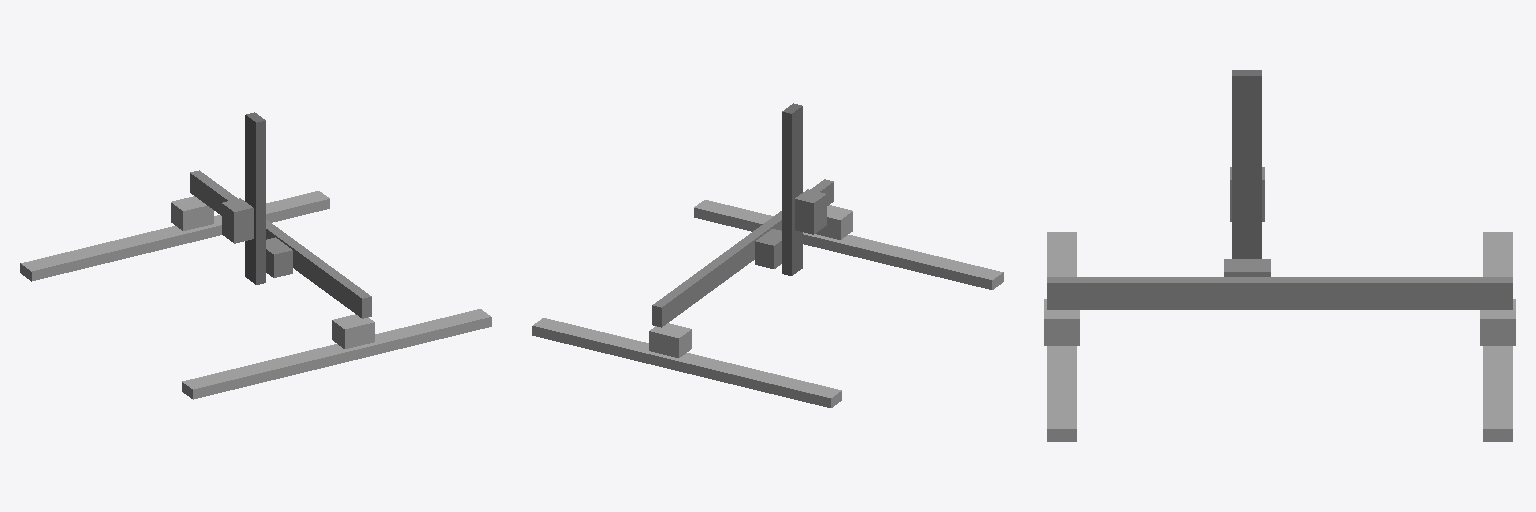
robot.urdf — cartesian_robot:
<?xml version="1.0"?>
<robot name="cartesian_robot">

    <link name="base_link">
    </link>

<!-- X-Axis Track 1 Link -->
    <link name="x_track_1">
        <visual>
            <geometry>
                <box size="0.625 0.04 0.02"/>
            </geometry>
            <origin rpy="0 0 0" xyz="0 0 0"/>
            <material name="gray">
                <color rgba="0.7 0.7 0.7 1.0"/>
            </material>
        </visual>
        <inertial>
                <mass value="0.1"/>
                <inertia ixx="0.00083" iyy="0.00083" izz="0.000167" ixy="0" ixz="0" iyz="0"/>
        </inertial>
        <collision>
            <origin rpy="0 0 0" xyz="0 0 0"/>
            <geometry>
                <box size="0.625 0.04 0.02"/>
            </geometry>
        </collision>
    </link>

<!-- X-Axis Support 1 Link -->
    <link name="x_support_1">
        <visual>
            <geometry>
                <box size="0.063 0.047 0.04"/>
            </geometry>
            <origin rpy="0 0 0" xyz="0 0 0"/>
            <material name="gray">
                <color rgba="0.7 0.7 0.7 1.0"/>
            </material>
        </visual>
        <inertial>
                <mass value="0.1"/>
                <inertia ixx="0.00083" iyy="0.00083" izz="0.000167" ixy="0" ixz="0" iyz="0"/>
        </inertial>
        <collision>
            <origin rpy="0 0 0" xyz="0 0 0"/>
            <geometry>
                <box size="0.063 0.047 0.04"/>
            </geometry>
        </collision>
    </link>

<!-- X-Axis Track 2 Link -->
    <link name="x_track_2">
        <visual>
            <geometry>
                <box size="0.625 0.04 0.02"/>
            </geometry>
            <origin rpy="0 0 0" xyz="0 0 0"/>
            <material name="gray">
                <color rgba="0.7 0.7 0.7 1.0"/>
            </material>
        </visual>
        <inertial>
                <mass value="0.1"/>
                <inertia ixx="0.00083" iyy="0.00083" izz="0.000167" ixy="0" ixz="0" iyz="0"/>
        </inertial>
        <collision>
            <origin rpy="0 0 0" xyz="0 0 0"/>
            <geometry>
                <box size="0.625 0.04 0.02"/>
            </geometry>
        </collision>
    </link>

<!-- X-Axis Support 2 Link -->
    <link name="x_support_2">
        <visual>
            <geometry>
                <box size="0.063 0.047 0.04"/>
            </geometry>
            <origin rpy="0 0 0" xyz="0 0 0"/>
            <material name="gray">
                <color rgba="0.7 0.7 0.7 1.0"/>
            </material>
        </visual>
        <inertial>
                <mass value="0.1"/>
                <inertia ixx="0.00083" iyy="0.00083" izz="0.000167" ixy="0" ixz="0" iyz="0"/>
        </inertial>
        <collision>
            <origin rpy="0 0 0" xyz="0 0 0"/>
            <geometry>
                <box size="0.063 0.047 0.04"/>
            </geometry>
        </collision>
    </link>

<!-- Y-Axis Link -->
    <link name="y_track">
        <visual>
            <geometry>
                <box size="0.02 0.625 0.04"/>
            </geometry>
            <origin rpy="0 0 0" xyz="0 0 0"/>
            <material name="gray">
                <color rgba="0.6 0.6 0.6 1.0"/>
            </material>
        </visual>
        <inertial>
                <mass value="0.1"/>
                <inertia ixx="0.00083" iyy="0.00083" izz="0.000167" ixy="0" ixz="0" iyz="0"/>
        </inertial>
        <collision>
            <origin rpy="0 0 0" xyz="0 0 0"/>
            <geometry>
                <box size="0.02 0.625 0.04"/>
            </geometry>
        </collision>
    </link>

<!-- Y-Axis Support Link -->
    <link name="y_support">
        <visual>
            <geometry>
                <box size="0.04 0.063 0.047"/>
            </geometry>
            <origin rpy="0 0 0" xyz="0 0 0"/>
            <material name="gray">
                <color rgba="0.6 0.6 0.6 1.0"/>
            </material>
        </visual>
        <inertial>
                <mass value="0.1"/>
                <inertia ixx="0.00083" iyy="0.00083" izz="0.000167" ixy="0" ixz="0" iyz="0"/>
        </inertial>
        <collision>
            <origin rpy="0 0 0" xyz="0 0 0"/>
            <geometry>
                <box size="0.04 0.063 0.047"/>
            </geometry>
        </collision>
    </link>

<!-- Z-Axis Link -->
    <link name="z_track">
        <visual>
            <geometry>
                <box size="0.02 0.04 0.325"/>
            </geometry>
            <origin rpy="0 0 0" xyz="0 0 0"/>
            <material name="gray">
                <color rgba="0.5 0.5 0.5 1.0"/>
            </material>
        </visual>
        <inertial>
                <mass value="0.1"/>
                <inertia ixx="0.00083" iyy="0.00083" izz="0.000167" ixy="0" ixz="0" iyz="0"/>
        </inertial>
        <collision>
            <origin rpy="0 0 0" xyz="0 0 0"/>
            <geometry>
                <box size="0.02 0.04 0.325"/>
            </geometry>
        </collision>
    </link>

<!-- Z-Axis Support Link -->
    <link name="z_support">
        <visual>
            <geometry>
                <box size="0.04 0.047 0.063"/>
            </geometry>
            <origin rpy="0 0 0" xyz="0 0 0"/>
            <material name="gray">
                <color rgba="0.6 0.6 0.6 1.0"/>
            </material>
        </visual>
        <inertial>
                <mass value="0.1"/>
                <inertia ixx="0.00083" iyy="0.00083" izz="0.000167" ixy="0" ixz="0" iyz="0"/>
        </inertial>
        <collision>
            <origin rpy="0 0 0" xyz="0 0 0"/>
            <geometry>
                <box size="0.04 0.047 0.063"/>
            </geometry>
        </collision>
    </link>

<!-- Fixed Joint between X-Axis Track 1 and Base Link -->
    <joint name="x1Base" type="fixed">
        <parent link="base_link"/>
        <child link="x_track_1"/>
        <origin xyz="-0.3125 0 0.01" rpy="0 0 0"/>
    </joint>

<!-- Fixed Joint between X-Axis Track 2 and Base Link -->
    <joint name="x2Base" type="fixed">
        <parent link="base_link"/>
        <child link="x_track_2"/>
        <origin xyz="-0.3125 0.585 0.01" rpy="0 0 0"/>
    </joint>

<!-- Fixed Joint between X-Axis Support 1 and X-Axis Support 2 -->
    <joint name="xSupportFixed" type="fixed">
        <parent link="x_support_1"/>
        <child link="x_support_2"/>
        <origin xyz="0 0.585 0" rpy="0 0 0"/>
    </joint>

<!-- Prismatic Joint between X-Axis Track 1 and X-Axis Support 1 -->
    <joint name="xPrismatic1" type="prismatic">
        <parent link="x_track_1"/>
        <child link="x_support_1"/>
        <origin xyz="0.2815 0 0.038" rpy="0 0 0"/>
        <axis xyz="1 0 0"/>
        <limit lower="-0.478" upper="-0.015" effort="100" velocity="1"/>
    </joint>

<!-- Fixed Joint between Y-axis and X-axis Support 1 -->
    <joint name="x1yFixed" type="fixed">
        <parent link="x_support_1"/>
        <child link="y_track"/>
        <origin xyz="0.017 0.2925 0.051" rpy="0 0 0"/>
    </joint>

<!-- Fixed Joint between Y-axis and X-axis Support 2
    <joint name="x2yFixed" type="fixed">
        <parent link="x_support_2"/>
        <child link="y_track"/>
        <origin xyz="0.017 -0.2925 0.051" rpy="0 0 0"/>
    </joint> -->

<!-- Prismatic Joint between Y-Axis and Y-Axis Support -->
    <joint name="yPrismatic" type="prismatic">
        <parent link="y_track"/>
        <child link="y_support"/>
        <origin xyz="-0.038 -0.2425 0" rpy="0 0 0"/>
        <axis xyz="0 1 0"/>
        <limit lower="0.01" upper="0.387" effort="100" velocity="1"/>
    </joint>

<!-- Fixed Joint between Z-axis and Y-axis Support -->
    <joint name="yzFixed" type="fixed">
        <parent link="y_support"/>
        <child link="z_track"/>
        <origin xyz="-0.04 0.000 0.1275" rpy="0 0 0"/>
    </joint>

<!-- Prismatic Joint between Z-Axis and Z-Axis Support -->
    <joint name="zPrismatic" type="prismatic">
        <parent link="z_track"/>
        <child link="z_support"/>
        <origin xyz="-0.038 0 -0.1310" rpy="0 0 0"/>
        <axis xyz="0 0 1"/>
        <limit lower="0.003" upper="0.188" effort="100" velocity="1"/>
    </joint>

</robot>

--- What the picture shows (computed from the rendered views, not written in the file) ---
Views: 3 orthographic renders of the robot side by side, from view 1: azimuth 30°, elevation 25°; view 2: azimuth 150°, elevation 25°; view 3: azimuth 270°, elevation 25°.
Robot: cartesian_robot — 9 links, 8 joints (3 prismatic, 5 fixed); root link base_link; default pose: joints at zero except 3 at the middle of their limits (xPrismatic1 = -0.2465, yPrismatic = 0.1985, zPrismatic = 0.0955).
Visible links, largest first — view 1: x_track_1, x_track_2, y_track, z_track, z_support, x_support_1, x_support_2, y_support; view 2: x_track_2, x_track_1, y_track, z_track, z_support, x_support_2, y_support, x_support_1; view 3: y_track, z_track, x_track_1, x_track_2, x_support_1, x_support_2, y_support.
Link boxes in pixels (x1=…): x_track_1: x1=182, y1=309, x2=491, y2=399; x_track_2: x1=20, y1=191, x2=329, y2=281; y_track: x1=190, y1=170, x2=371, y2=318; z_track: x1=245, y1=112, x2=265, y2=284; z_support: x1=222, y1=198, x2=253, y2=243; x_support_1: x1=332, y1=314, x2=374, y2=348; x_support_2: x1=171, y1=196, x2=213, y2=230; y_support: x1=266, y1=237, x2=292, y2=277; x_track_2: x1=532, y1=318, x2=841, y2=407; x_track_1: x1=694, y1=200, x2=1003, y2=289; y_track: x1=652, y1=179, x2=833, y2=327; z_track: x1=782, y1=103, x2=802, y2=275; z_support: x1=795, y1=189, x2=826, y2=234; x_support_2: x1=649, y1=323, x2=691, y2=357; y_support: x1=755, y1=229, x2=781, y2=268; x_support_1: x1=816, y1=205, x2=852, y2=239; y_track: x1=1047, y1=277, x2=1512, y2=309; z_track: x1=1232, y1=70, x2=1261, y2=258; x_track_1: x1=1047, y1=232, x2=1076, y2=441; x_track_2: x1=1483, y1=232, x2=1512, y2=441; x_support_1: x1=1044, y1=299, x2=1079, y2=345; x_support_2: x1=1480, y1=299, x2=1515, y2=345; y_support: x1=1224, y1=259, x2=1270, y2=276.
Bounding box of the posed robot: 0.625 × 0.632 × 0.389 m (x, y, z).
Geometry: primitives only (box / cylinder / sphere), no mesh files.